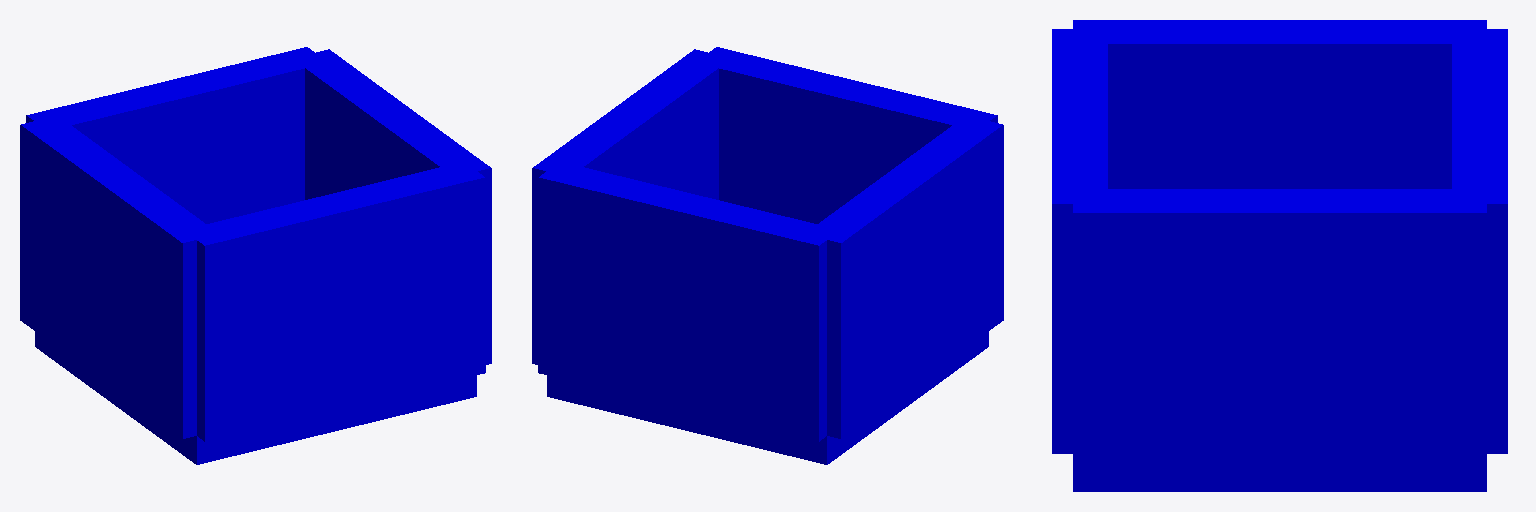
The robot description file, URDF, robot "cube.urdf":
<?xml version="0.0" ?>
<robot name="cube.urdf">
  <link name="base">
    <inertial>
      <origin rpy="0 0 0" xyz="0 0 0"/>
      <mass value="0.001"/>
      <inertia ixx="-4.46E-06" ixy="-4.55E-07" ixz="1.95E-06" iyy="-2.47E-06" iyz="8.51E-08" izz="2.17E-06"/>
    </inertial>
    <visual>
      <origin rpy="0 0 0" xyz="0 0 -0.05"/>
      <geometry>
        <box size=".15 .15 0.03"/>
      </geometry>
      <material name="blue">
      </material> 
    </visual>
    <collision>
      <origin rpy="0 0 0" xyz="0 0 -0.05"/>
      <geometry>
        <box size=".15 .15 0.03"/>
      </geometry>
    </collision>
  </link>

  <link name="left">
    <inertial>
      <origin rpy="0 0 0" xyz="0 0 0"/>
      <mass value="0.001"/>
      <inertia ixx="-4.46E-06" ixy="-4.55E-07" ixz="1.95E-06" iyy="-2.47E-06" iyz="8.51E-08" izz="2.17E-06"/>
    </inertial>
    <visual>
      <origin rpy="0 0 0" xyz="0.0725 0.0 0"/>
      <geometry>
        <box size=".02 .15 0.1"/>
      </geometry>
      <material name="blue">
      </material> 
    </visual>
    <collision>
      <origin rpy="0 0 0" xyz="0.0725 0 0"/>
      <geometry>
        <box size=".02 .15 0.1"/>
      </geometry>
    </collision>
  </link>

  <joint name="left_joint" type="fixed">
    <origin rpy="0 0 0" xyz="0 0 0"/>
    <parent link="base"/>
    <child link="left"/>
  </joint>

  <link name="right">
    <inertial>
      <mass value="0.001"/>
      <inertia ixx="-4.46E-06" ixy="-4.55E-07" ixz="1.95E-06" iyy="-2.47E-06" iyz="8.51E-08" izz="2.17E-06"/>
    </inertial>
    <visual>
      <origin rpy="0 0 0" xyz="-0.0725 0.0 0"/>
      <geometry>
        <box size=".02 .15 0.1"/>
      </geometry>
      <material name="blue">
      </material> 
    </visual>
    <collision>
      <origin rpy="0 0 0" xyz="-0.0725 0 0"/>
      <geometry>
        <box size=".02 .15 0.1"/>
      </geometry>
    </collision>
  </link>

  <joint name="right_joint" type="fixed">
    <origin rpy="0 0 0" xyz="0 0 0"/>
    <parent link="base"/>
    <child link="right"/>
  </joint>

  <link name="front">
    <inertial>
      <mass value="0.001"/>
      <inertia ixx="-4.46E-06" ixy="-4.55E-07" ixz="1.95E-06" iyy="-2.47E-06" iyz="8.51E-08" izz="2.17E-06"/>
    </inertial>
    <visual>
      <origin rpy="0 0 0" xyz="0 0.0725 0"/>
      <geometry>
        <box size=".15 .02 0.1"/>
      </geometry>
      <material name="blue">
      </material> 
    </visual>
    <collision>
      <origin rpy="0 0 0" xyz="0 0.0725 0"/>
      <geometry>
        <box size=".15 .02 0.1"/>
      </geometry>
    </collision>
  </link>

  <joint name="front_joint" type="fixed">
    <origin rpy="0 0 0" xyz="0 0 0"/>
    <parent link="base"/>
    <child link="front"/>
  </joint>

  <link name="rear">
    <inertial>
      <mass value="0.001"/>
      <inertia ixx="-4.46E-06" ixy="-4.55E-07" ixz="1.95E-06" iyy="-2.47E-06" iyz="8.51E-08" izz="2.17E-06"/>
    </inertial>
    <visual>
      <origin rpy="0 0 0" xyz="0 -0.0725 0"/>
      <geometry>
        <box size=".15 .02 0.1"/>
      </geometry>
      <material name="blue">
      </material> 
    </visual>
    <collision>
      <origin rpy="0 0 0" xyz="0 -0.0725 0"/>
      <geometry>
        <box size=".15 .02 0.1"/>
      </geometry>
    </collision>
  </link>

  <joint name="rear_joint" type="fixed">
    <origin rpy="0 0 0" xyz="0 0 0"/>
    <parent link="base"/>
    <child link="rear"/>
  </joint>


  <material name="panda_white">
    <color rgba="1. 1. 1. 1."/>
  </material>
  <material name="red">
    <color rgba="1.0 0. 0. 1.0"/>
  </material>
  <material name="blue">
    <color rgba="0. 0. 1. 1.0"/>
  </material>
  <material name="green">
    <color rgba="0. 1. 0. 1.0"/>
  </material>
<material name="Yellow">
  <color rgba="0.949 0.878 0.0392 1.0"/>
</material>
<material name="Blue">
  <color rgba="0.12156 0.3804 0.6745 1.0"/>
</material>
<material name="Red">
  <color rgba="0.9254901 0.243137 0.086274509 1.0"/>
</material>
</robot>

--- Facts derived from the render (not from the file) ---
3 views of the same robot in one strip: view 1: azimuth 30°, elevation 25°; view 2: azimuth 150°, elevation 25°; view 3: azimuth 270°, elevation 25° (orthographic).
Robot: cube.urdf — 5 links, 4 joints (4 fixed); root link base; default pose: all joints at 0.
Links seen in each view (by area): view 1: rear, right, front, left, base; view 2: front, right, rear, left, base; view 3: left, right, rear, front, base.
Boxes of the visible links, x1=… form: rear: x1=184, y1=164, x2=485, y2=441; right: x1=20, y1=116, x2=218, y2=438; front: x1=26, y1=47, x2=320, y2=223; left: x1=294, y1=49, x2=491, y2=364; base: x1=35, y1=332, x2=476, y2=464; front: x1=538, y1=167, x2=839, y2=441; right: x1=805, y1=116, x2=1003, y2=438; rear: x1=697, y1=47, x2=997, y2=223; left: x1=532, y1=49, x2=731, y2=364; base: x1=547, y1=332, x2=988, y2=464; left: x1=1073, y1=189, x2=1486, y2=462; right: x1=1073, y1=20, x2=1486, y2=188; rear: x1=1052, y1=29, x2=1107, y2=453; front: x1=1452, y1=29, x2=1507, y2=453; base: x1=1073, y1=463, x2=1486, y2=491.
Bounding box of the posed robot: 0.165 × 0.165 × 0.115 m (x, y, z).
Geometry: primitives only (box / cylinder / sphere), no mesh files.